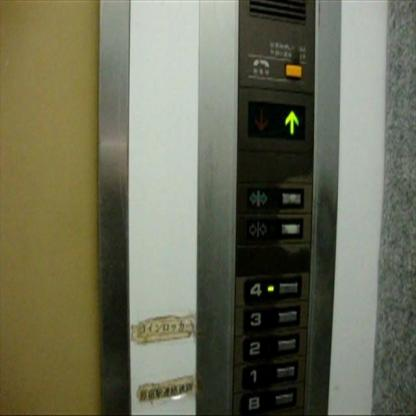1: (239, 356, 299, 390)
2: (241, 330, 299, 361)
3: (241, 302, 302, 332)
4: (241, 271, 302, 302)
B: (238, 385, 298, 414)
call: (244, 51, 305, 85)
close: (242, 214, 304, 239)
led: (246, 98, 306, 139)
open: (243, 184, 304, 210)
